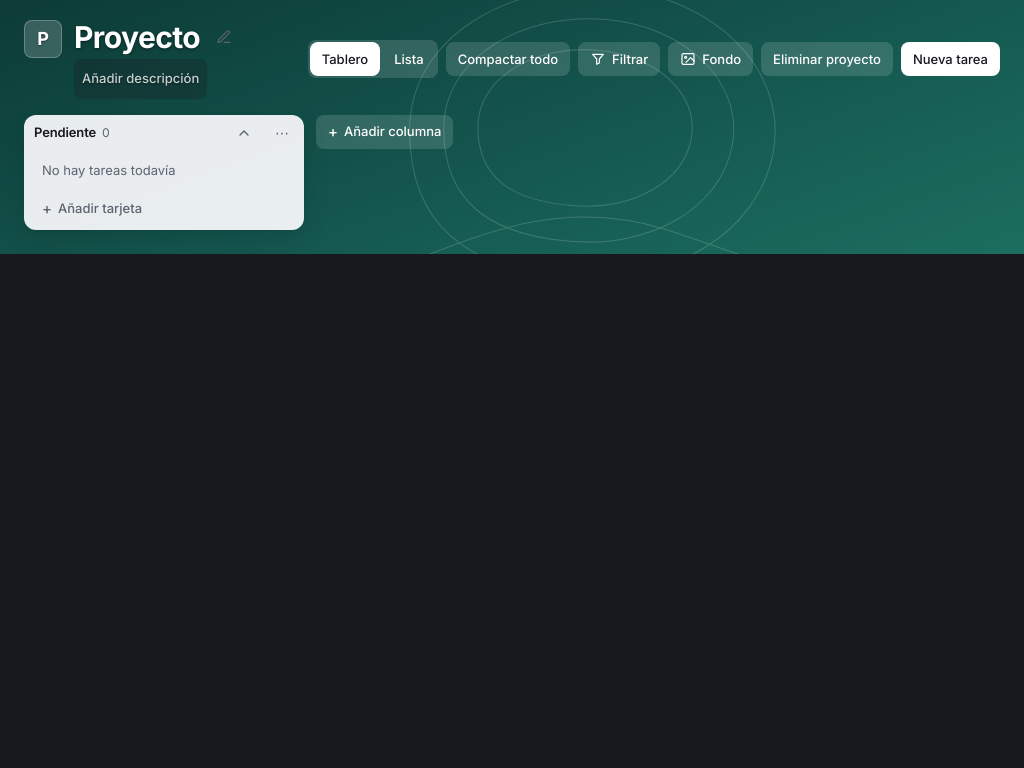
Scenario: ProyectoDetalle › abre el diálogo de nueva tarea y lo cierra con Escape
The width and height of the screenshot is (1024, 768).
Expected: the field labelled "título" is not shown
Click the button "Nueva tarea": (950, 59) [901,42,1000,76]
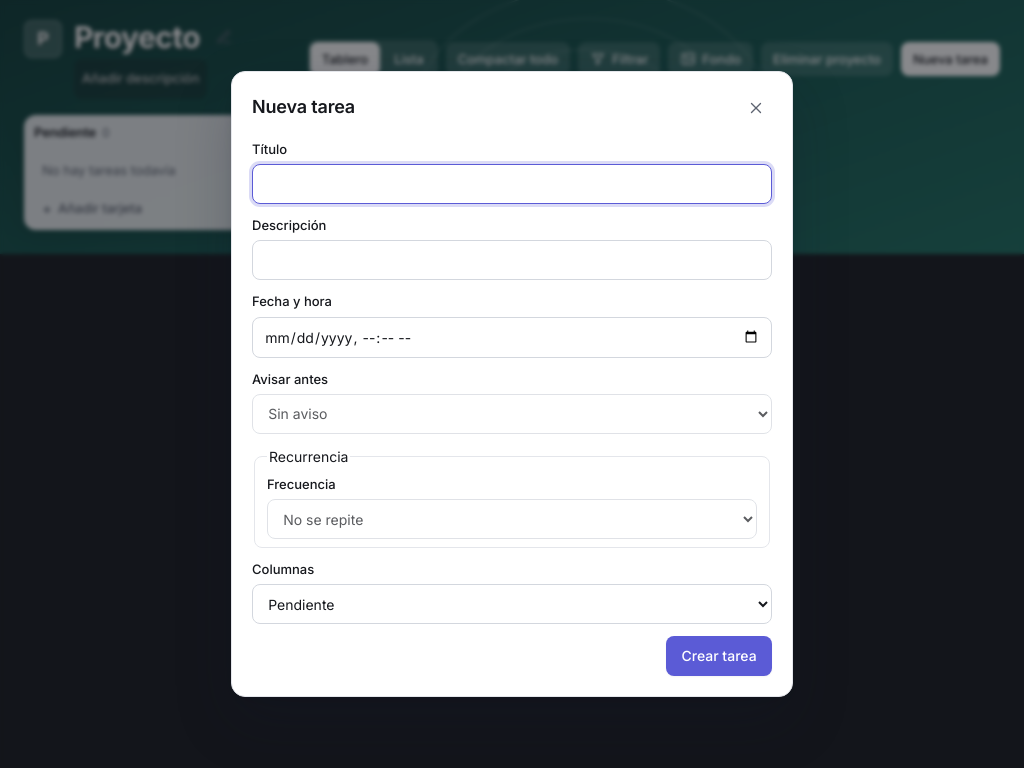
Now the field labelled "Título" is shown, box [252,164,772,204]
Press Escape in the dialog, box [231,71,793,697]
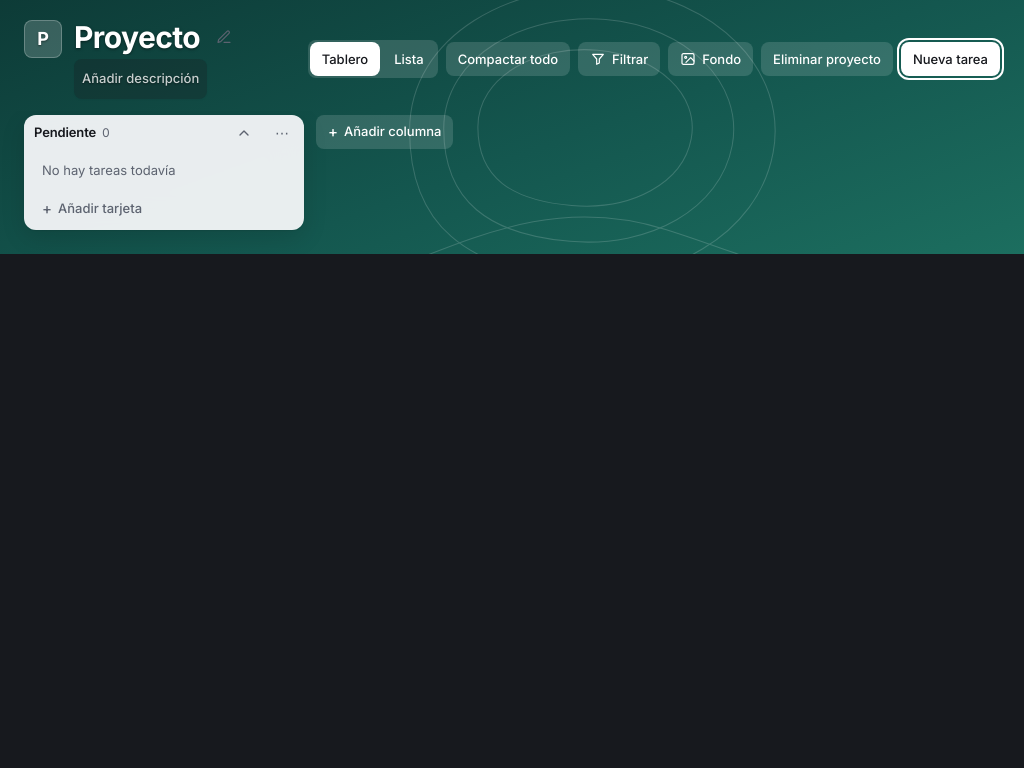
Now the label labelled "Título" is gone
